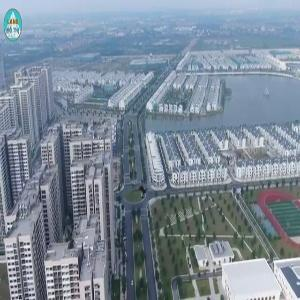drone: (124, 172, 161, 209)
